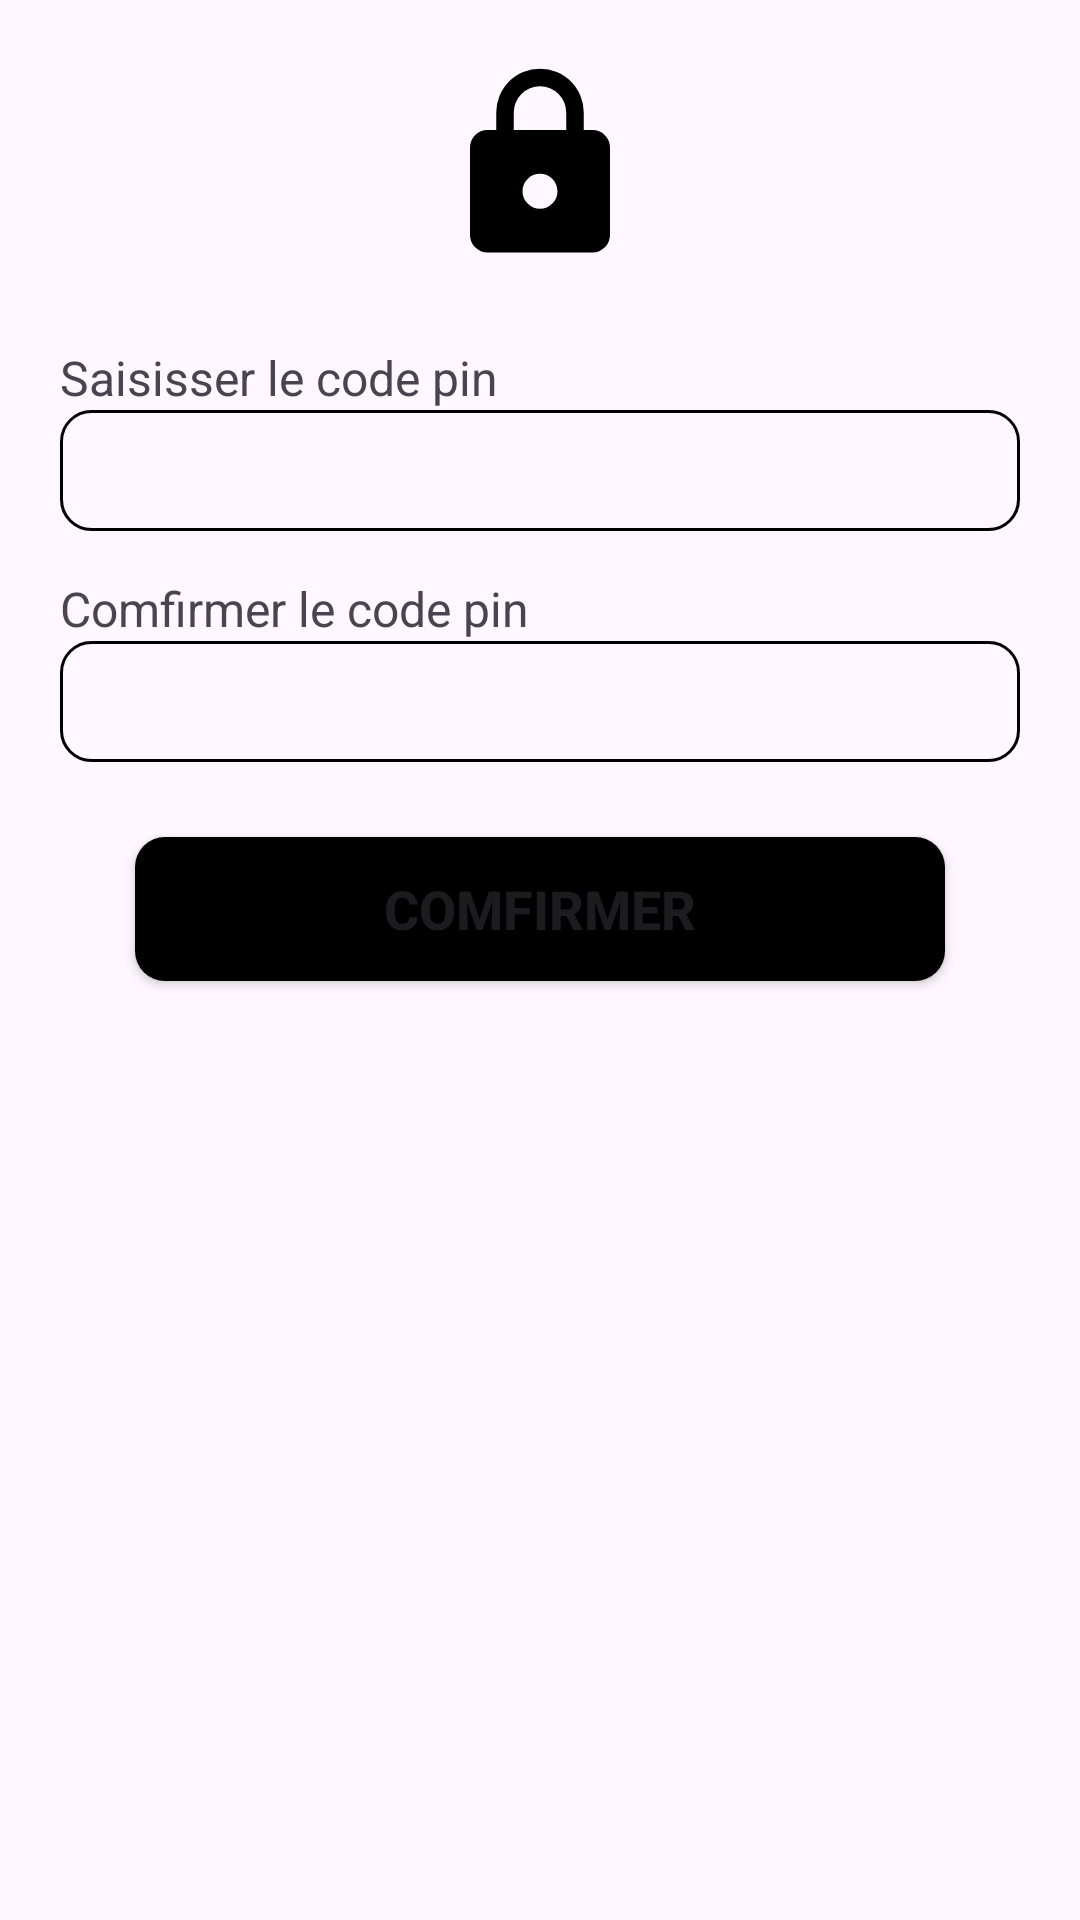

Icon bounding boxes for this 1080w x 1920h phone screenshot, format (x1, y1, x2, y2):
lock: (470, 68, 610, 253)
